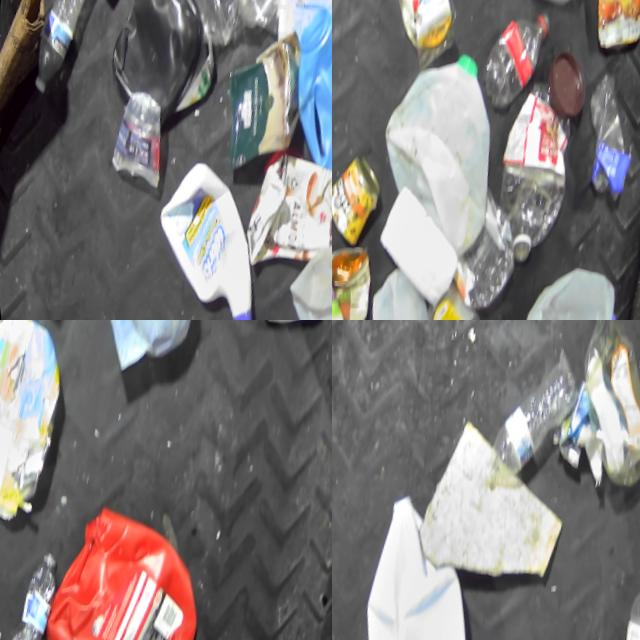can: (332, 149, 382, 254)
milk_jug: (352, 41, 511, 265), (332, 488, 502, 640), (491, 257, 624, 320), (258, 228, 332, 320)
non_white_jug: (23, 501, 199, 640), (264, 0, 332, 229), (570, 0, 640, 66)
plastic_bottle: (470, 74, 583, 276), (461, 341, 590, 508), (549, 320, 640, 511), (464, 7, 558, 129), (23, 0, 110, 98), (0, 546, 58, 640), (124, 0, 269, 35), (582, 557, 640, 640), (202, 0, 301, 38)
